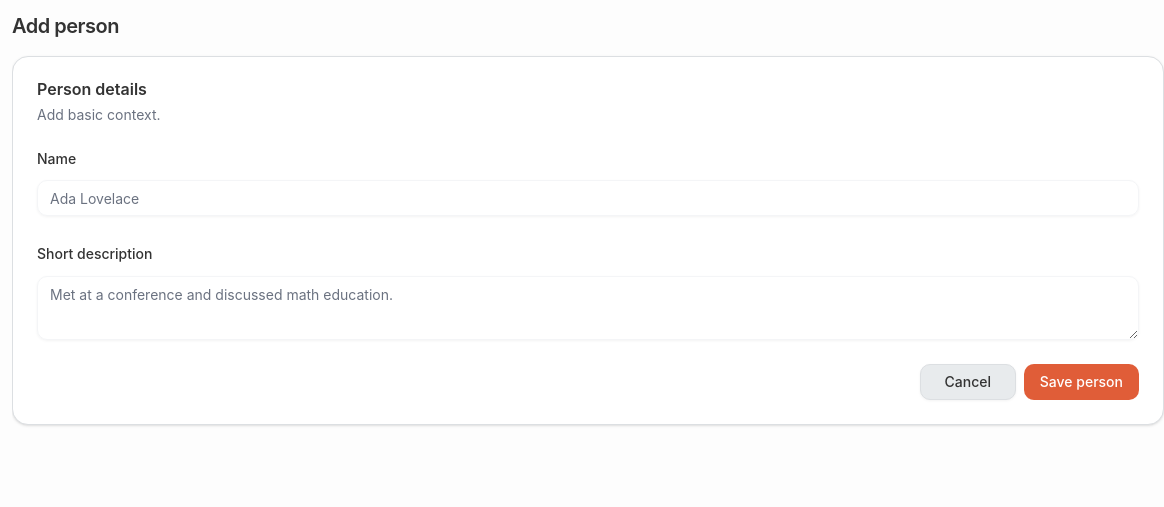
it: AddPersonPage › shows validation errors for empty required fields
The width and height of the screenshot is (1164, 507).
Click the button "Save person": (1081, 382) [1024, 364, 1139, 400]
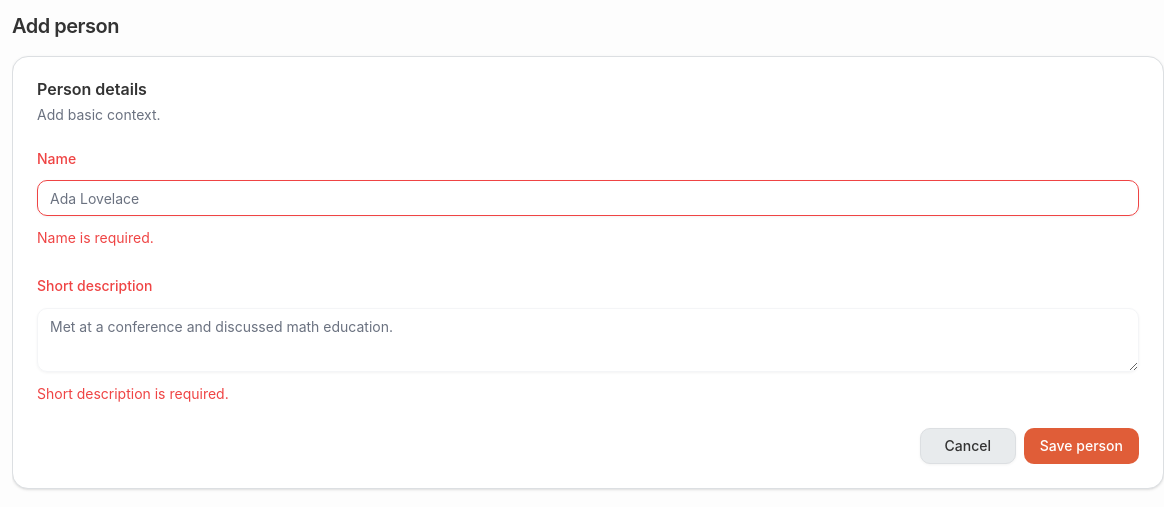
Check: the text "Name is required." is shown, box [37, 229, 154, 246]
Check: the text "Short description is required." is shown, box [37, 384, 229, 402]
